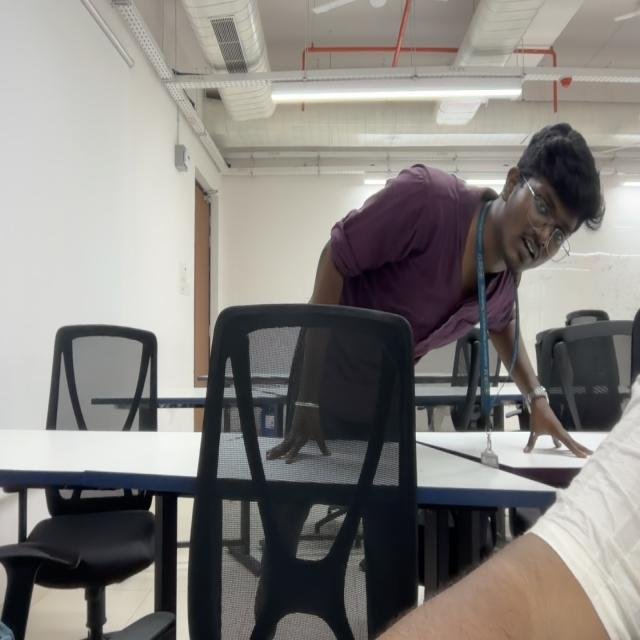ravindra: (498, 121, 604, 278)
